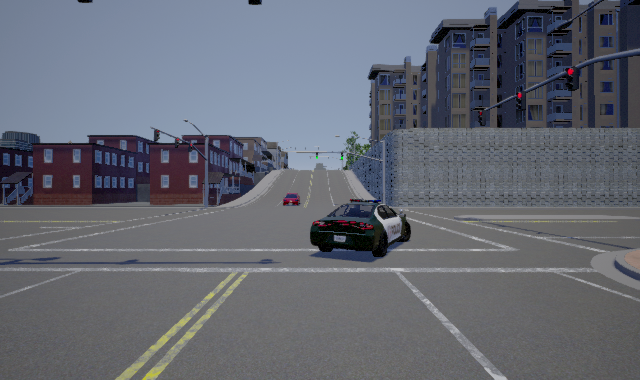traffic_light: (565, 66, 579, 91), (516, 91, 526, 111), (478, 110, 486, 126), (154, 129, 160, 141), (175, 137, 180, 148), (188, 143, 193, 152), (341, 152, 343, 160), (316, 152, 318, 159), (286, 152, 288, 159), (278, 153, 280, 157)
vehicle: (310, 199, 411, 257), (282, 190, 300, 207)
